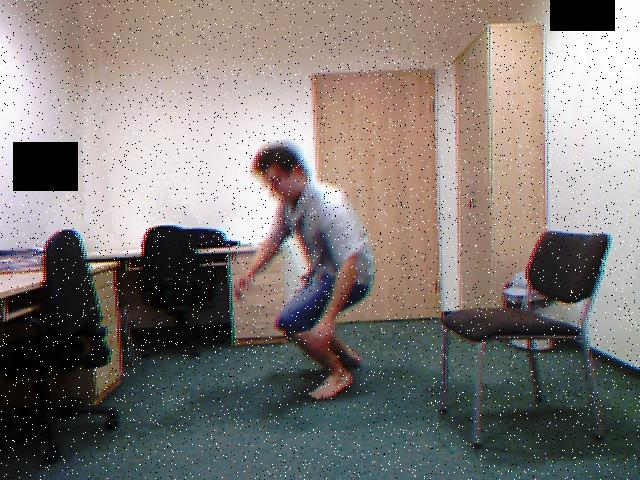near-fall: (234, 142, 374, 398)
